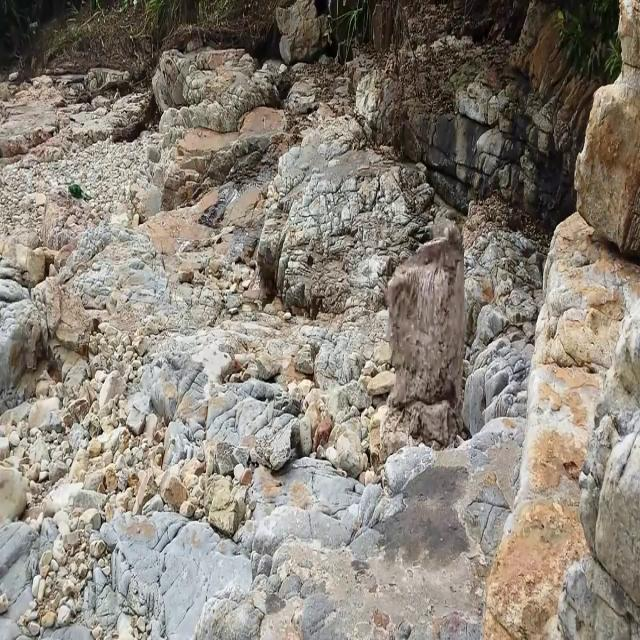Camouflage: (386, 214, 465, 457)
